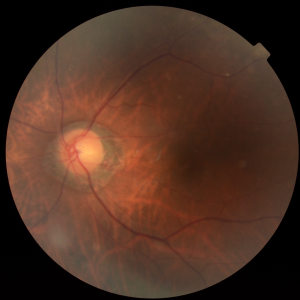healthy_eye: (30, 100, 239, 220)
